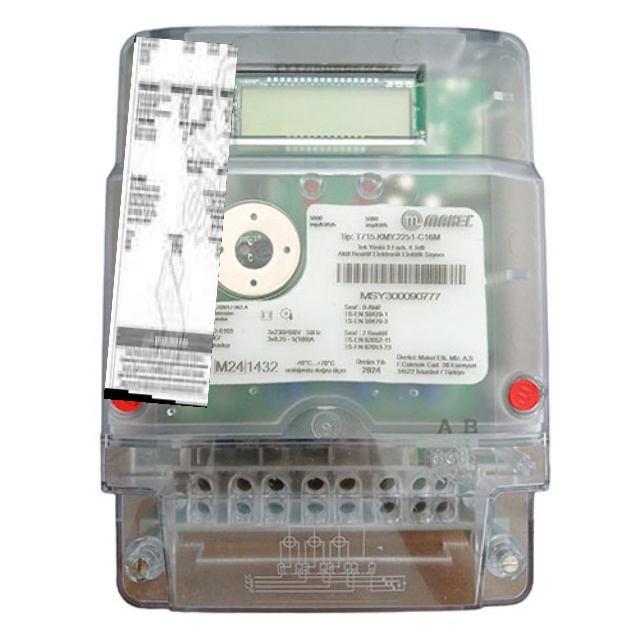electricity-bill: (103, 36, 237, 408)
